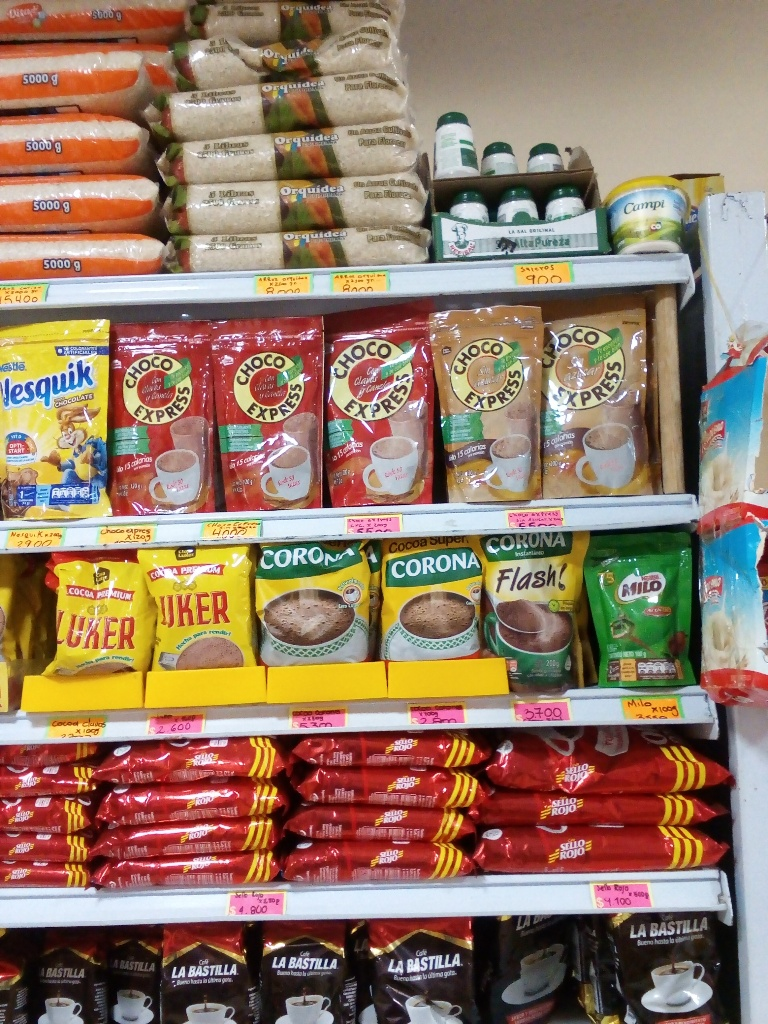COL0170203DYP10000: (590, 534, 696, 688)
COL0170303DYP20000: (0, 320, 113, 520)
